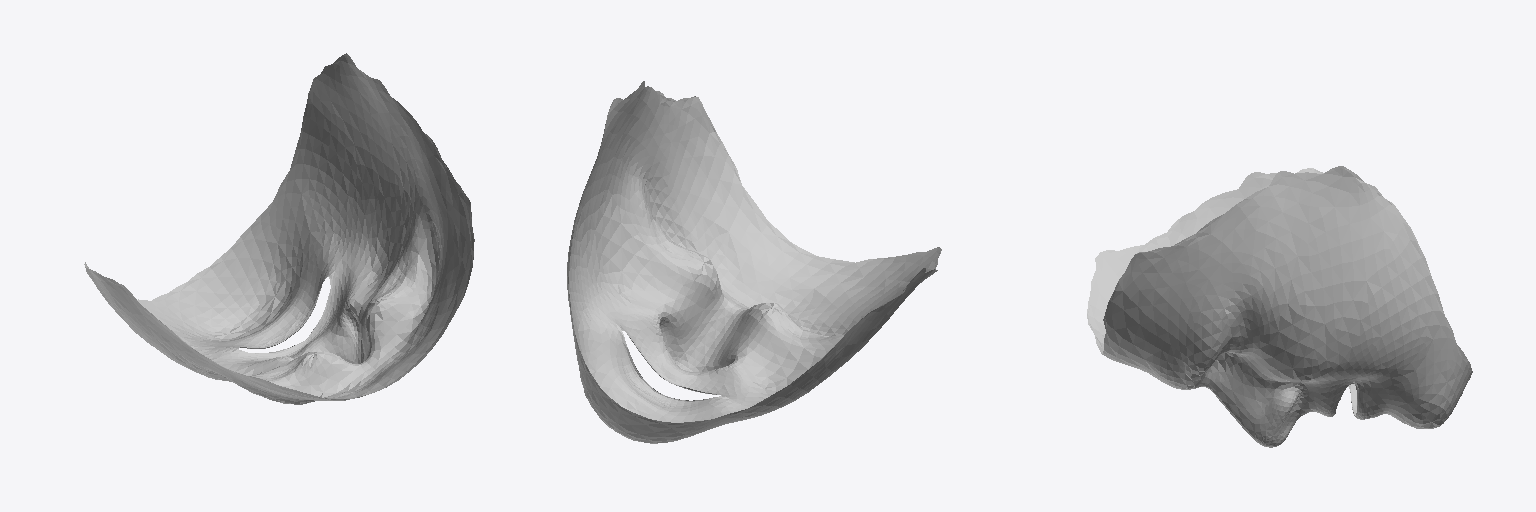
The model's file is face_gab_sfm30.obj.
The picture shows the model from 3 angles: view 1: azimuth 30°, elevation 25°; view 2: azimuth 150°, elevation 25°; view 3: azimuth 270°, elevation 25°; orthographic projection.
Size of the model in its own units: 164 by 153 by 179.